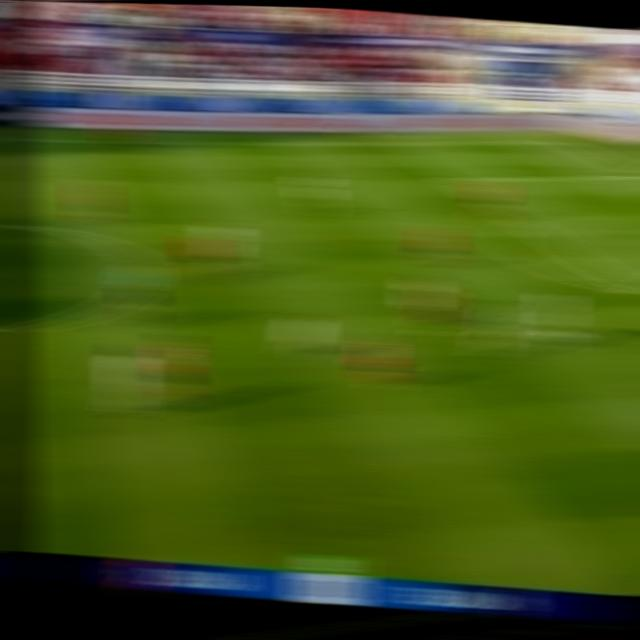bigarea_top_inner: (439, 169, 475, 187)
bigarea_top_outter: (626, 166, 640, 182)
bottom_arc_area_intersection: (621, 280, 640, 300)
corner: (548, 135, 581, 149)
top_arc_area_intersection: (508, 210, 544, 232)
